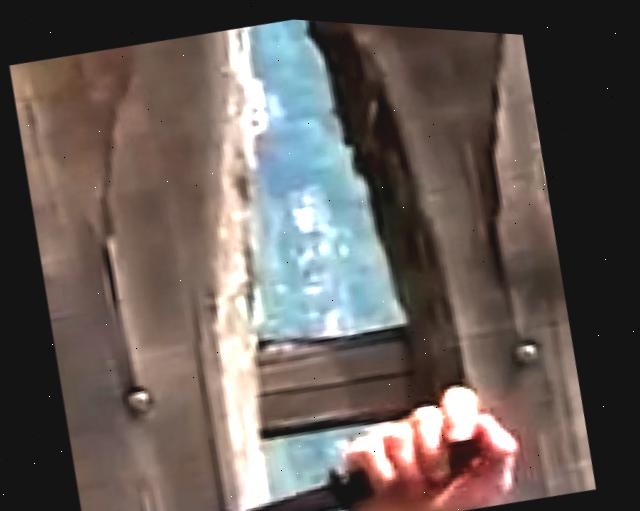long knife: (86, 362, 528, 511)
